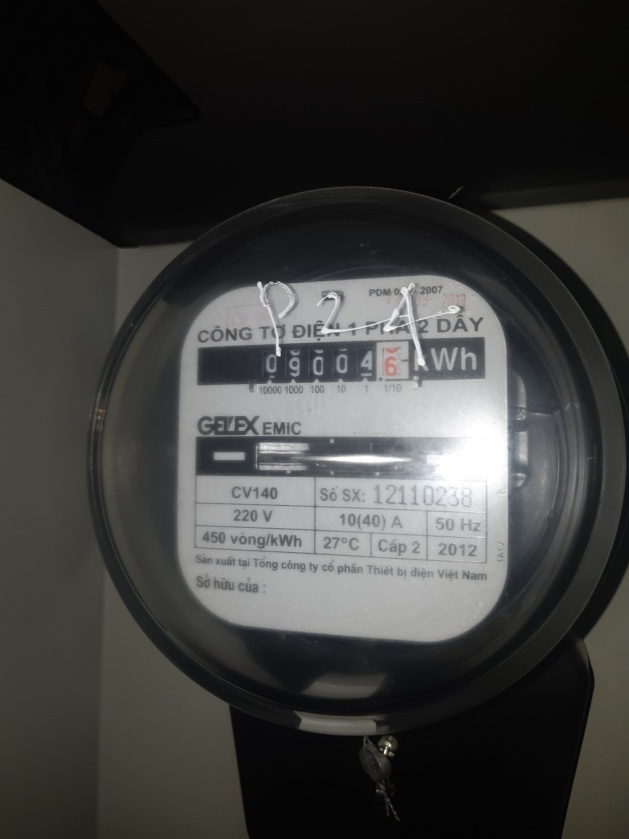counter: (194, 344, 491, 383)
electricity_meter: (82, 191, 625, 721)
